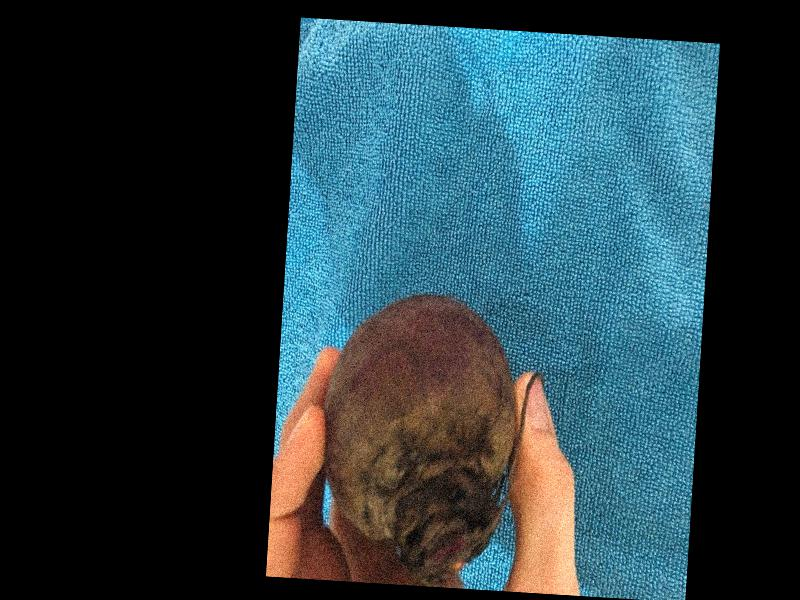Beet: (313, 289, 547, 587)
